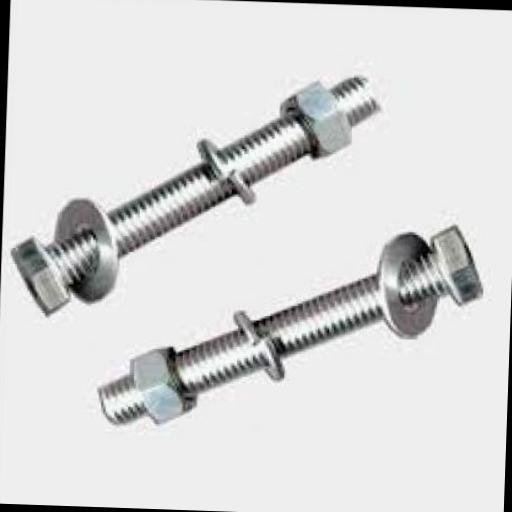metal: (4, 57, 380, 322), (94, 210, 482, 446), (50, 193, 116, 307), (372, 224, 432, 340), (272, 74, 350, 156), (124, 342, 191, 418), (226, 310, 282, 382), (193, 132, 252, 200)
